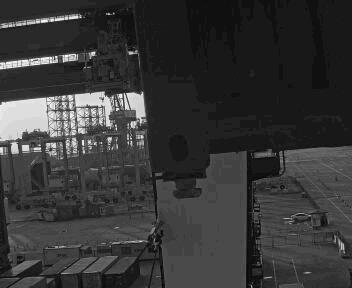twist_lock_1: (152, 159, 209, 203)
